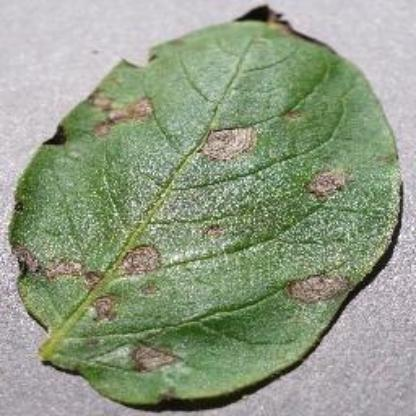Early-Blight: (9, 4, 414, 410)
